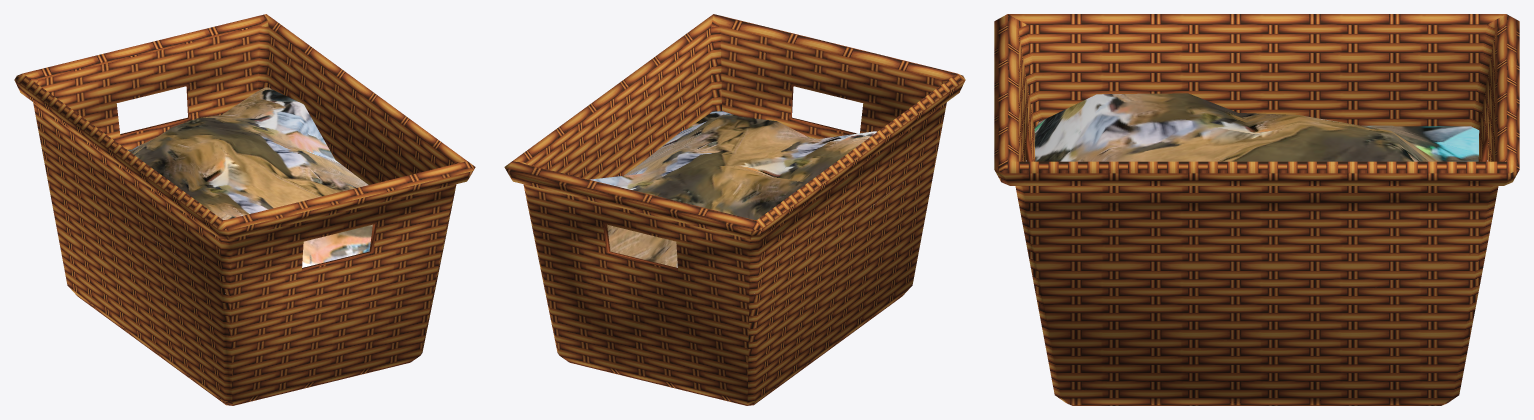
File: ClothBasket.fbx
3 views of the same model, side by side, from view 1: azimuth 30°, elevation 25°; view 2: azimuth 150°, elevation 25°; view 3: azimuth 270°, elevation 25° (orthographic). The views are drawn at different scales.
Parts seen in each view (by area): view 1: ClothBasket, Plane; view 2: ClothBasket, Plane; view 3: ClothBasket, Plane.
Boxes of the visible parts, x1=… form: ClothBasket: x1=14, y1=14, x2=475, y2=405; Plane: x1=127, y1=87, x2=444, y2=293; ClothBasket: x1=504, y1=14, x2=965, y2=405; Plane: x1=590, y1=111, x2=899, y2=293; ClothBasket: x1=994, y1=14, x2=1519, y2=405; Plane: x1=1034, y1=93, x2=1479, y2=161.
Bounding box in the file's own units: 38.79 × 30.47 × 55.42.
